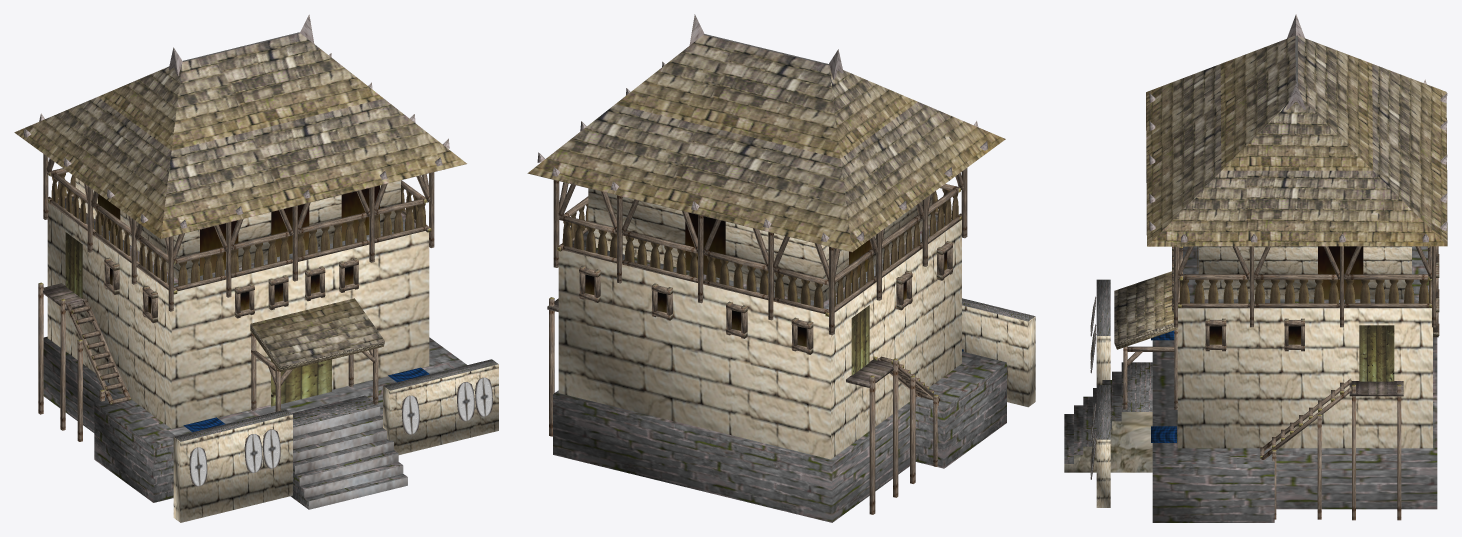
File: palace.dae
3 views of the same model, side by side, from view 1: azimuth 30°, elevation 25°; view 2: azimuth 150°, elevation 25°; view 3: azimuth 270°, elevation 25° (orthographic). The views are drawn at different scales.
Visible parts, largest first — view 1: palace; view 2: palace; view 3: palace.
Part boxes in pixels (x1,y1,x2,y2): palace: [14, 14, 498, 522]; palace: [527, 14, 1035, 522]; palace: [1064, 14, 1447, 522].
Bounding box in the file's own units: 22.82 × 23.13 × 26.44.
